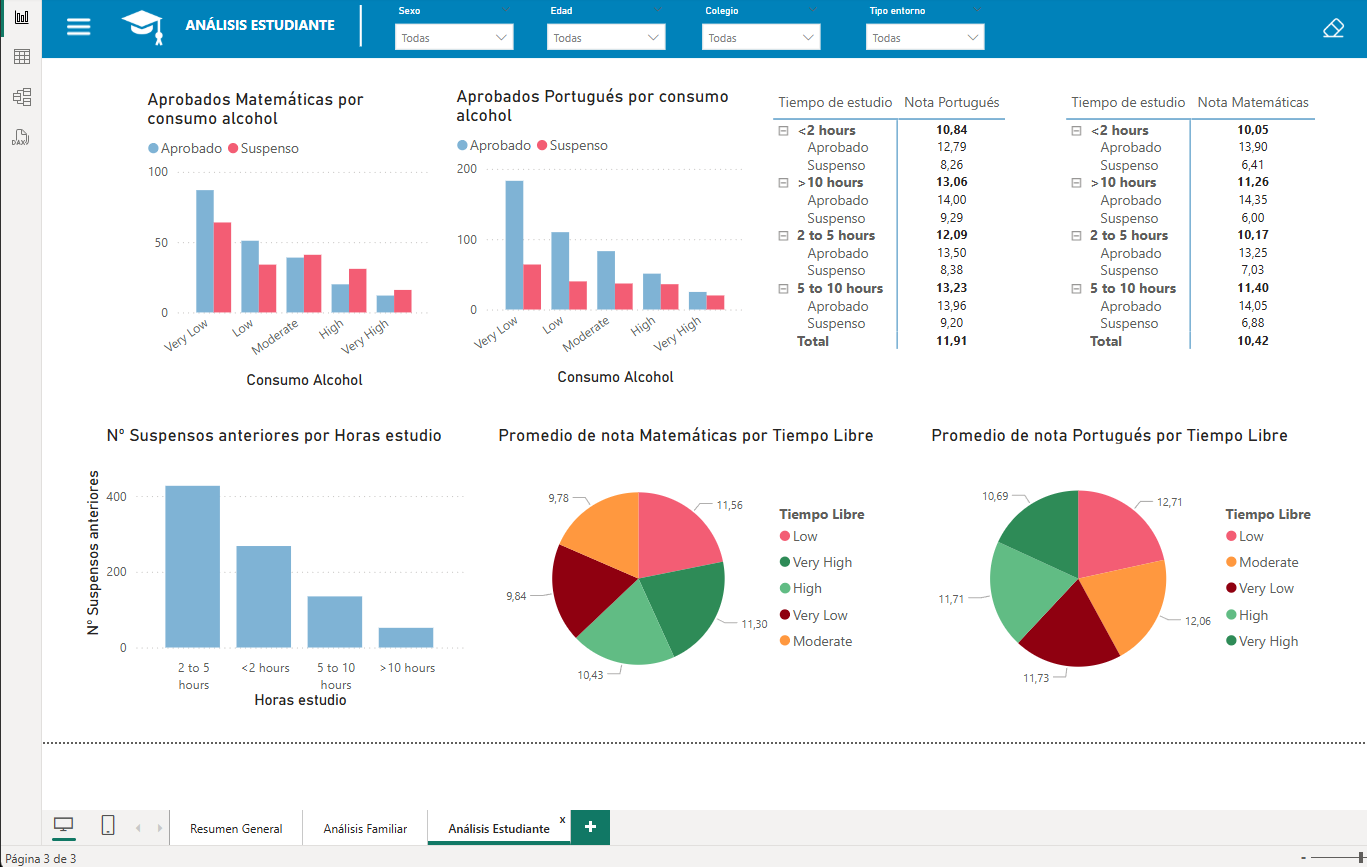

What the dashboard file says about the page in this screenshot:
{"tool":"powerbi","page":{"name":"Análisis Estudiante","canvas":[1280,720],"ordinal":2},"visuals":[{"type":"shape","box":[0,0,1280.3,59],"z":0,"group":"g1"},{"type":"clusteredColumnChart","fields":{"Category":["df_limpito_EDA.StudyTime_Description"],"Y":["CountNonNull(df_limpito_EDA.failures)"]},"box":[35.7,412.9,377.1,280],"z":0},{"type":"group","id":"g1","title":"Área Cabecera","box":[0,0,1280.3,175.5],"z":1000},{"type":"image","title":"Icono Borrar","box":[1227.5,15,40,30],"z":1500},{"type":"image","title":"Icono Informe","box":[71.2,5,50,50],"z":2000,"group":"g1"},{"type":"pivotTable","fields":{"Rows":["df_limpito_EDA.StudyTime_Desc","df_limpito_EDA.Por_Status"],"Values":["Avg(df_limpito_EDA.por_score)"]},"box":[701.4,87.1,244.3,295.7],"z":2000},{"type":"image","title":"Icono Navegador","box":[15,9,40,40],"z":3000,"group":"g1"},{"type":"pivotTable","fields":{"Rows":["df_limpito_EDA.StudyTime_Desc","df_limpito_EDA.Math_Status"],"Values":["Avg(df_limpito_EDA.math_score)"]},"box":[984.3,87.1,264.3,295.7],"z":3000},{"type":"slicer","title":"Filtro Tipo Entorno","fields":{"Values":["df_limpito_EDA.address"]},"box":[786.4,3,134.3,52.9],"z":3500},{"type":"slicer","title":"Filtro Colegio","fields":{"Values":["df_limpito_EDA.school"]},"box":[628.4,2.5,133.8,52.5],"z":4000},{"type":"pieChart","title":"Promedio de nota Matemáticas por Tiempo Libre","fields":{"Category":["df_limpito_EDA.FreeTimeClassification"],"Y":["Avg(df_limpito_EDA.math_score)"]},"box":[435.7,412.9,381.4,280],"z":4000},{"type":"slicer","title":"Filtro Edad","fields":{"Values":["df_limpito_EDA.age"]},"box":[478.4,3,133.8,52.5],"z":5000},{"type":"pieChart","title":"Promedio de nota Portugués por Tiempo Libre","fields":{"Category":["df_limpito_EDA.FreeTimeClassification"],"Y":["Avg(df_limpito_EDA.por_score)"]},"box":[854.3,412.9,394.3,280],"z":5000},{"type":"slicer","title":"Filtro Sexo","fields":{"Values":["df_limpito_EDA.sex"]},"box":[330.9,3,133.8,53],"z":6000},{"type":"clusteredColumnChart","title":"Aprobados Matemáticas por consumo alcohol","fields":{"Category":["df_limpito_EDA.WAlc_Desc"],"Y":["CountNonNull(df_limpito_EDA.Math_Status)"],"Series":["df_limpito_EDA.Math_Status"]},"box":[96.2,87.5,283.8,295],"z":6000},{"type":"clusteredColumnChart","title":"Aprobados Portugués por consumo alcohol","fields":{"Category":["df_limpito_EDA.WAlc_Desc"],"Y":["CountNonNull(df_limpito_EDA.Por_Status)"],"Series":["df_limpito_EDA.Por_Status"]},"box":[395,85,287.5,295],"z":7000},{"type":"shape","title":"Línea","box":[279.5,8,57.5,40],"z":8000,"group":"g1"},{"type":"textbox","title":"Título","box":[133.2,12.5,167.5,35],"z":9000,"group":"g1"}]}

Visuals, with their boxes on the page's 1280x720 design canvas (x1, y1, x2, y2). These are canvas units, not pixel positions in the 1367x867 screenshot, which may show the page scaled, cropped or inside an application window:
shape: Rect(0, 0, 1280, 59)
clusteredColumnChart - df_limpito_EDA.StudyTime_Description x CountNonNull(df_limpito_EDA.failures): Rect(36, 413, 413, 693)
"Área Cabecera" group: Rect(0, 0, 1280, 176)
"Icono Borrar" image: Rect(1228, 15, 1268, 45)
"Icono Informe" image: Rect(71, 5, 121, 55)
pivotTable - df_limpito_EDA.StudyTime_Desc x df_limpito_EDA.Por_Status: Rect(701, 87, 946, 383)
"Icono Navegador" image: Rect(15, 9, 55, 49)
pivotTable - df_limpito_EDA.StudyTime_Desc x df_limpito_EDA.Math_Status: Rect(984, 87, 1249, 383)
"Filtro Tipo Entorno" slicer: Rect(786, 3, 921, 56)
"Filtro Colegio" slicer: Rect(628, 2, 762, 55)
"Promedio de nota Matemáticas por Tiempo Libre" pieChart: Rect(436, 413, 817, 693)
"Filtro Edad" slicer: Rect(478, 3, 612, 56)
"Promedio de nota Portugués por Tiempo Libre" pieChart: Rect(854, 413, 1249, 693)
"Filtro Sexo" slicer: Rect(331, 3, 465, 56)
"Aprobados Matemáticas por consumo alcohol" clusteredColumnChart: Rect(96, 88, 380, 382)
"Aprobados Portugués por consumo alcohol" clusteredColumnChart: Rect(395, 85, 682, 380)
"Línea" shape: Rect(280, 8, 337, 48)
"Título" textbox: Rect(133, 12, 301, 48)
